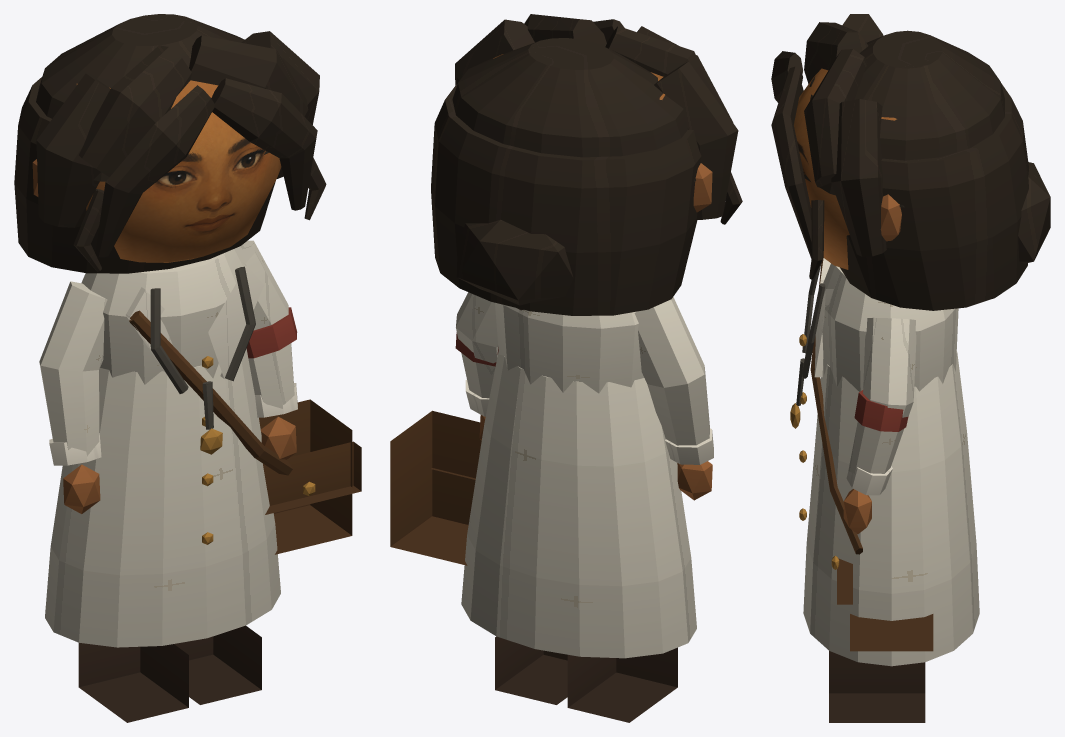
Rendered from amina-v01.glb.
3 renders of one model, left to right at view 1: azimuth 30°, elevation 25°; view 2: azimuth 150°, elevation 25°; view 3: azimuth 270°, elevation 25°, orthographic.
Parts seen in each view (by area): view 1: coat_skirt, skull, coat_torso, sleeve_l, hair_crown, hair_back, boot_l, crown_sweep_l, side_sweep_l, part_l, part_r, satchel (+17 smaller); view 2: coat_skirt, hair_back, hair_crown, satchel, coat_torso, sleeve_l, low_bun, boot_l, side_sweep_l, boot_r, sleeve_r, crown_sweep_l (+5 smaller); view 3: coat_skirt, hair_back, hair_crown, coat_torso, side_sweep_r, sleeve_r, boot_r, crown_sweep_r, part_r, skull, satchel, low_bun (+13 smaller).
Part boxes in pixels (x1,y1,x2,y2): coat_skirt: (45,348,280,647); skull: (76,80,281,262); coat_torso: (81,249,242,384); sleeve_l: (39,281,107,456); hair_crown: (35,14,268,181); hair_back: (14,77,275,273); boot_l: (78,643,188,722); crown_sweep_l: (79,45,191,176); side_sweep_l: (36,73,110,227); part_l: (95,85,214,257); part_r: (211,78,317,210); satchel: (259,399,352,554); coat_skirt: (461,352,696,658); hair_back: (431,84,701,315); hair_crown: (452,38,695,181); satchel: (390,410,481,565); coat_torso: (495,302,644,393); sleeve_l: (634,297,709,445); low_bun: (456,219,573,310); boot_l: (567,647,677,722); side_sweep_l: (654,61,738,219); boot_r: (495,636,567,704); sleeve_r: (456,292,498,398); crown_sweep_l: (605,26,712,93); coat_skirt: (803,351,979,666); hair_back: (840,83,1028,310); hair_crown: (804,30,1004,207); coat_torso: (822,263,958,391); side_sweep_r: (831,99,886,256); sleeve_r: (848,317,916,473); boot_r: (829,651,925,722); crown_sweep_r: (804,49,867,187); part_r: (771,66,822,262); skull: (794,68,896,269); satchel: (850,614,933,651); low_bun: (1018,162,1050,263).
Size of the model in its own units: 1.1 by 2.24 by 0.8711.
2 materials, 2 textured.
